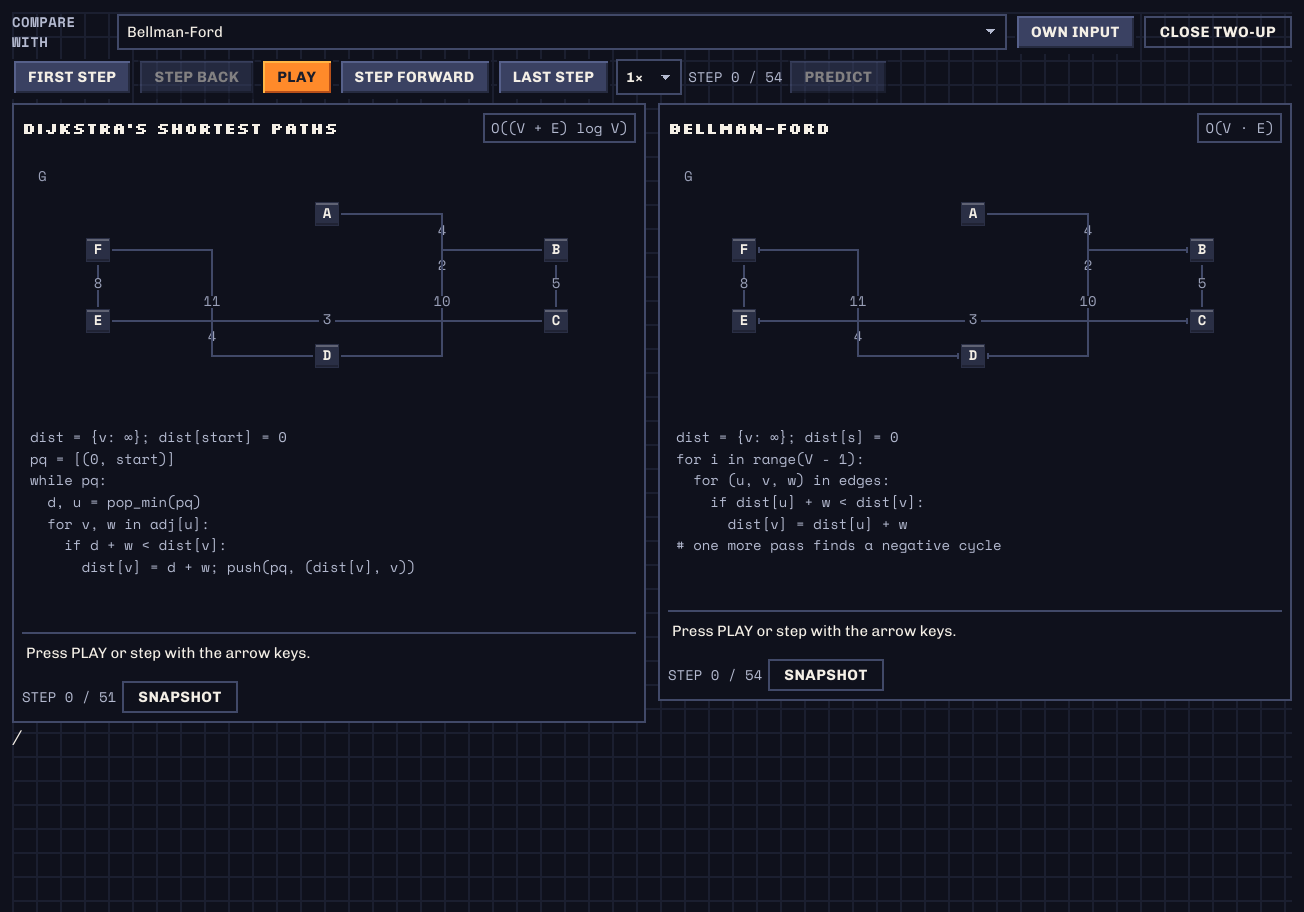
Test case: Two-up (labs contract §4.5, D-9) › one shared bar moves both; the shorter holds its last frame; same input, no note (S27)
Click the button "Step forward" at (415, 77), box [338,59,491,95]
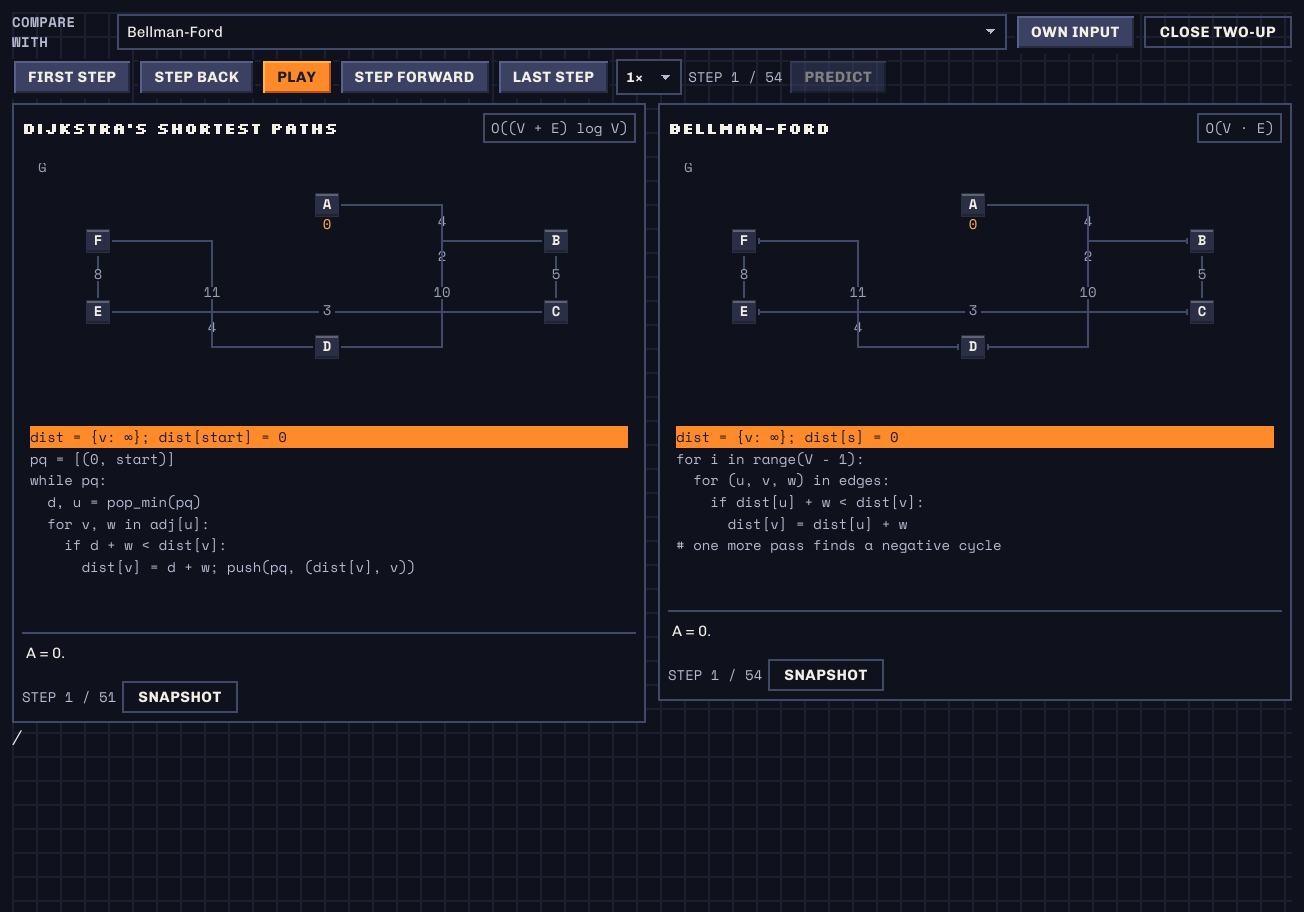
Click the button "Step forward" at (415, 77), box [338,59,491,95]
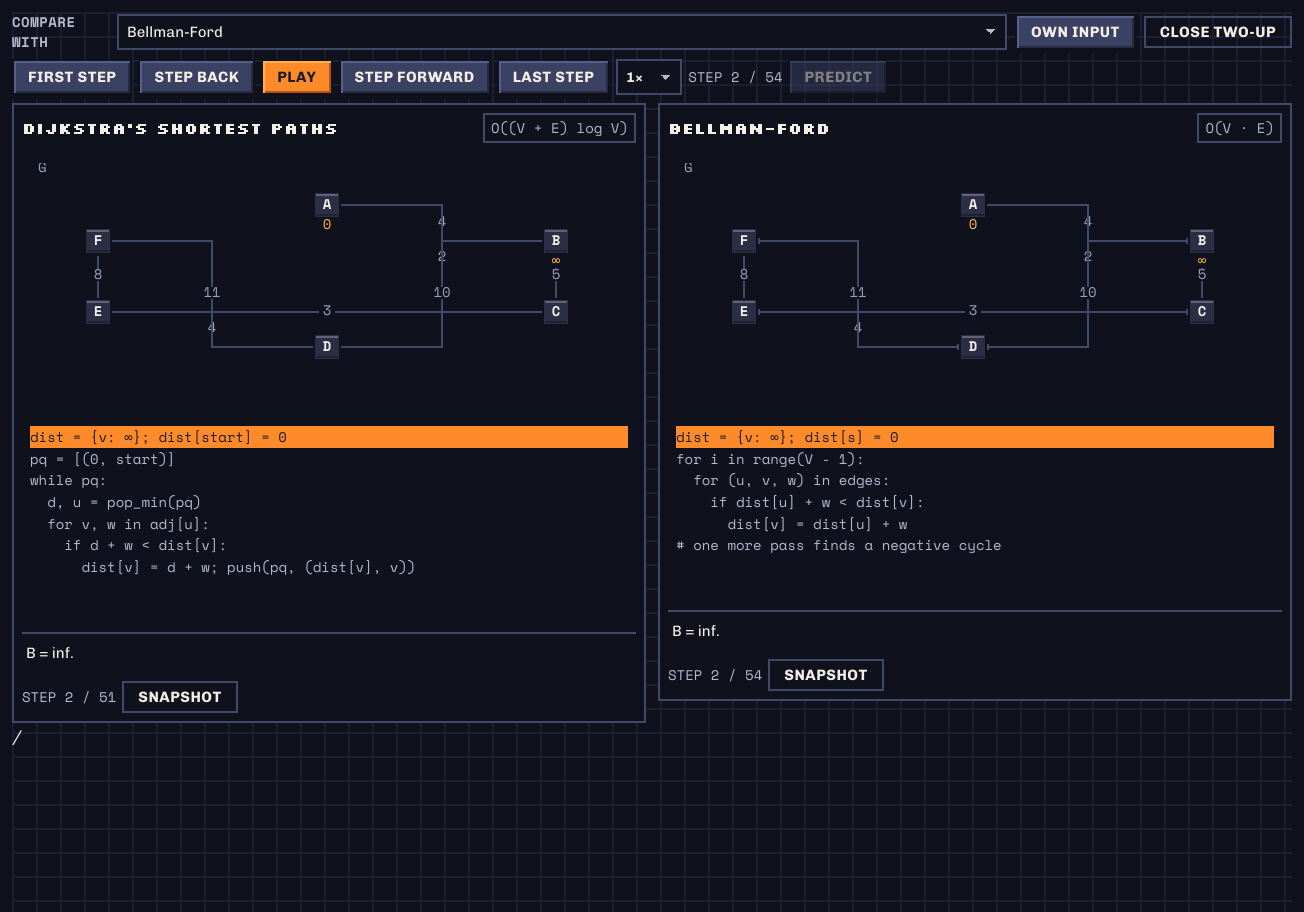
Click the button "Step forward" at (415, 77), box [338,59,491,95]
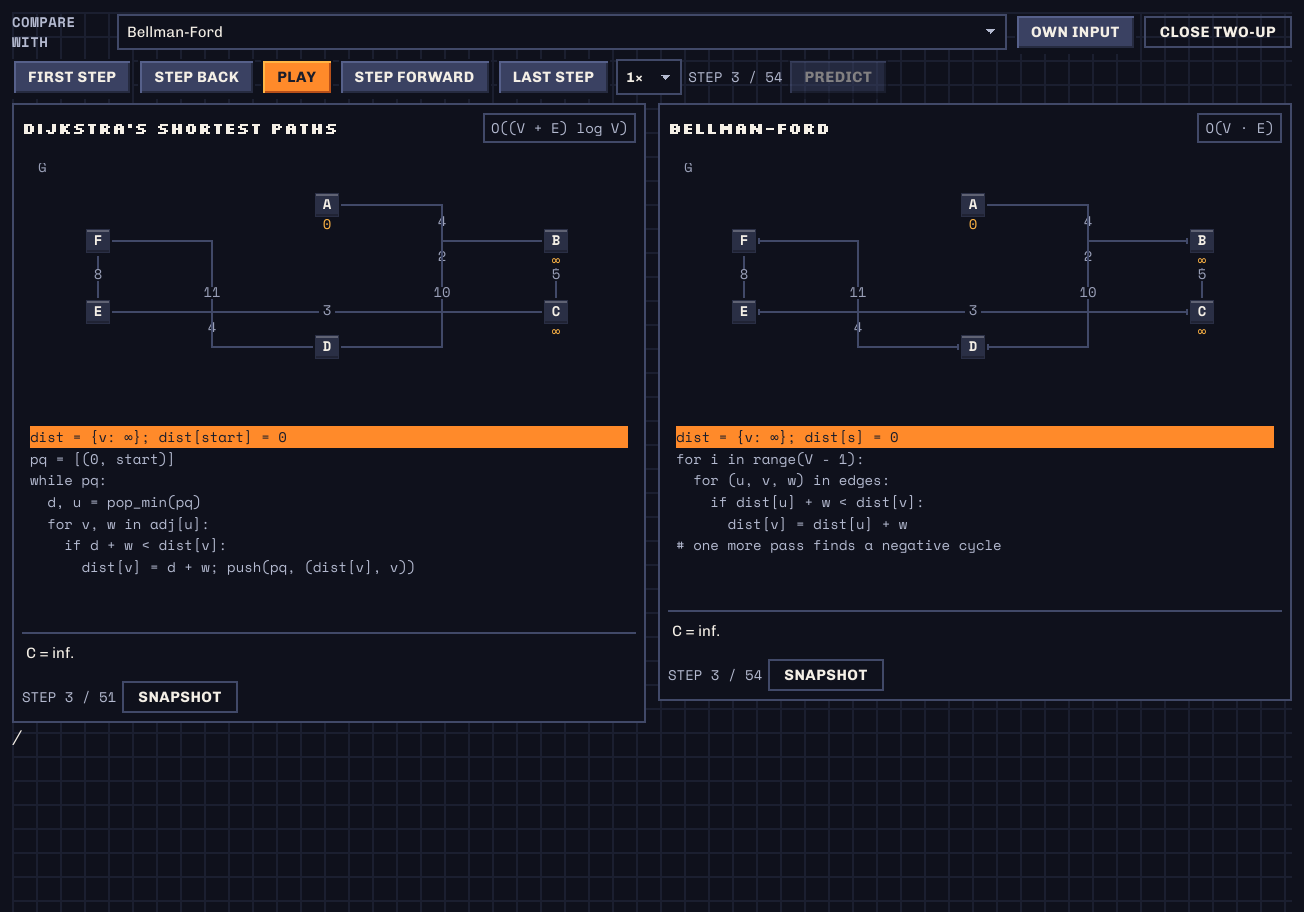
Click the button "Last step" at (554, 77), box [497,59,610,95]
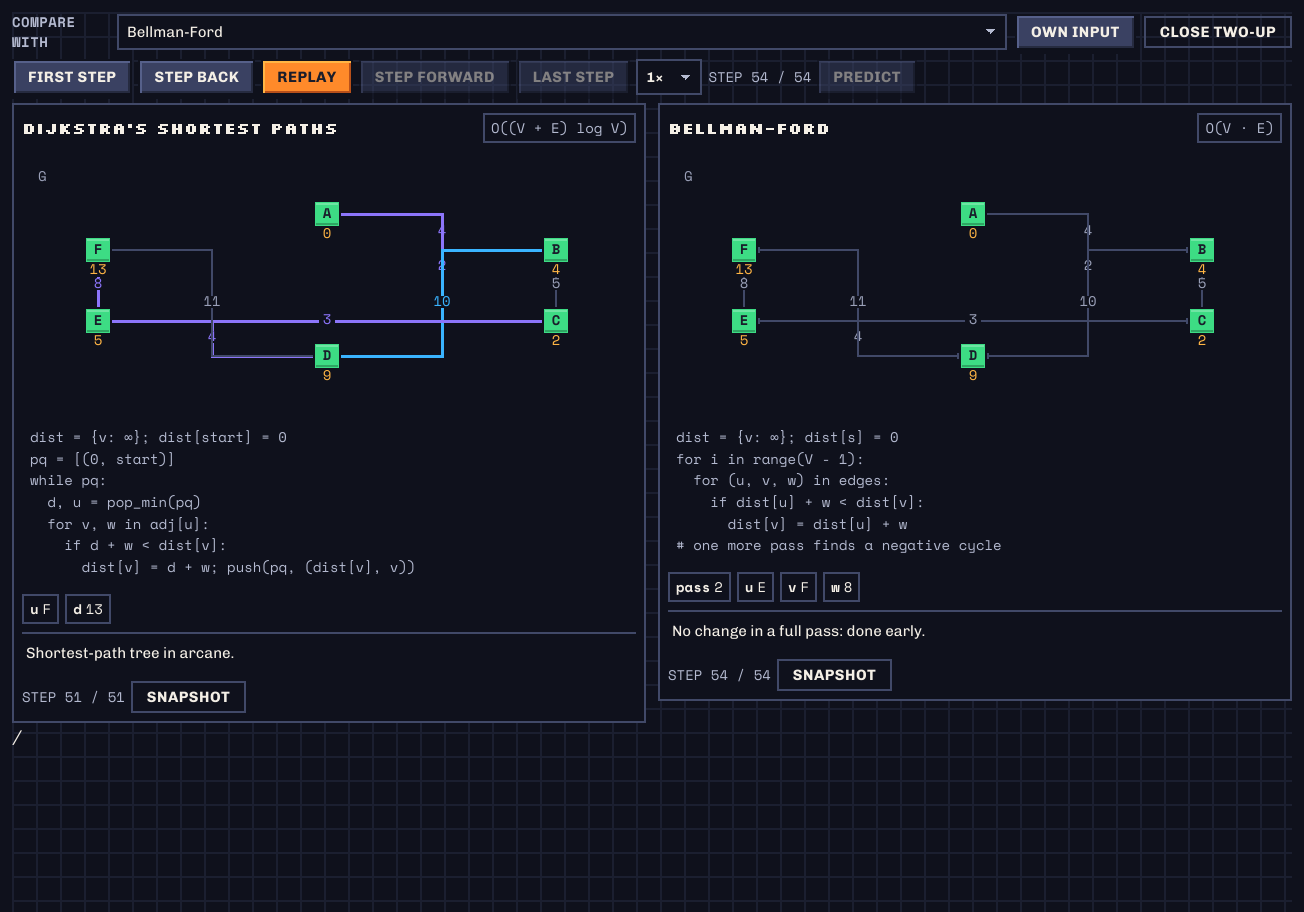
expect the button "Predict" is disabled: met, box [817,59,917,95]
expect the text with test id "lab-two-up-counter" reads "STEP 54 / 54": met, box [708,66,811,87]
